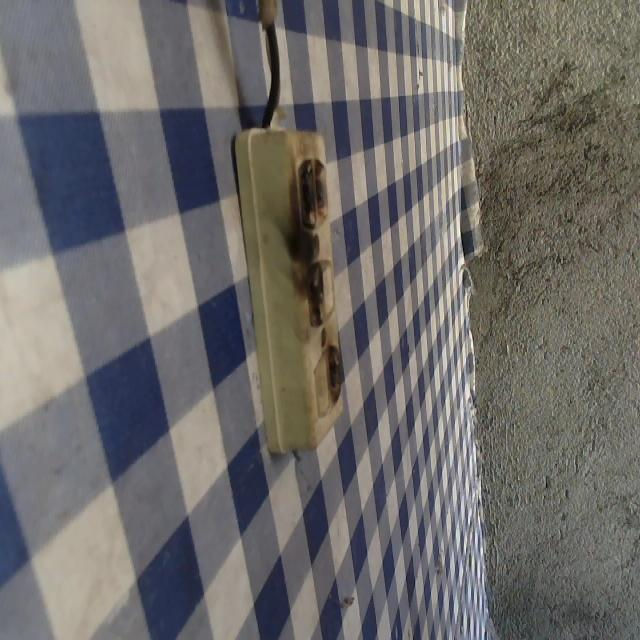-: (288, 150, 331, 234), (301, 257, 330, 336), (320, 341, 347, 411)
